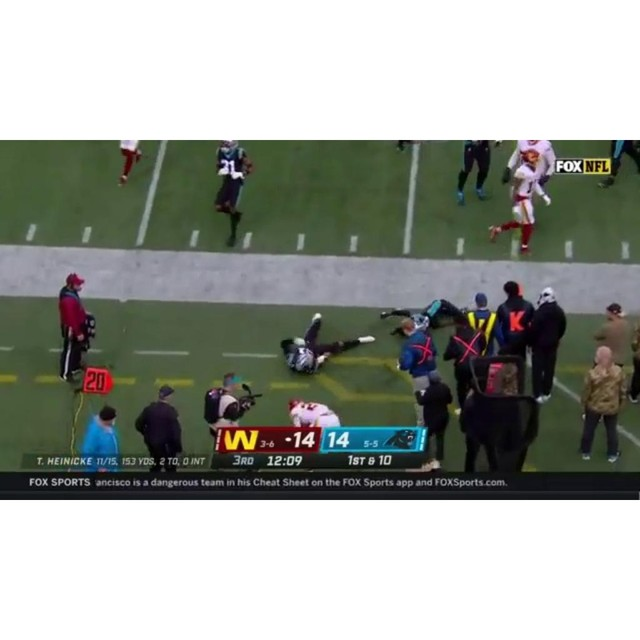american-football-player: (55, 274, 96, 382), (213, 141, 254, 247), (117, 141, 143, 187)
referee: (55, 274, 96, 382)
